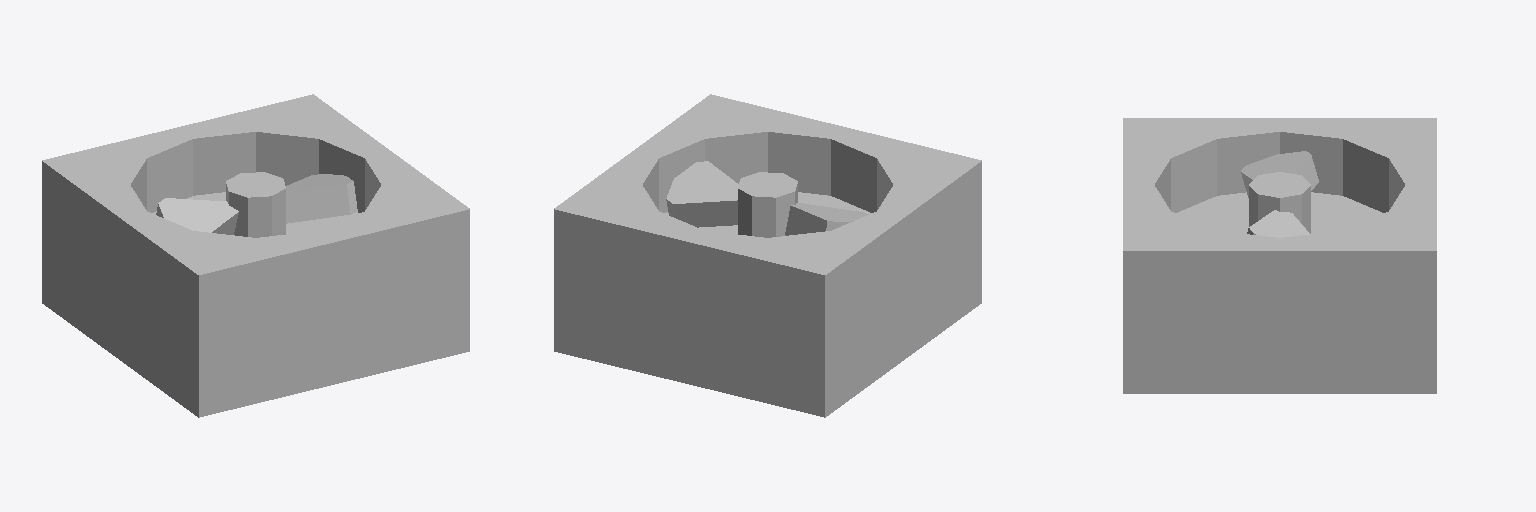
File: fan-two.obj
The picture shows the model from 3 angles: view 1: azimuth 30°, elevation 25°; view 2: azimuth 150°, elevation 25°; view 3: azimuth 270°, elevation 25°; orthographic projection.
Visible parts, largest first — view 1: fan-two, fan; view 2: fan-two, fan; view 3: fan-two, fan.
Boxes of the visible parts, x1,y1,x2,y2 form: fan-two: [42, 94, 469, 417]; fan: [156, 172, 357, 237]; fan-two: [554, 94, 981, 417]; fan: [666, 161, 868, 237]; fan-two: [1123, 118, 1436, 393]; fan: [1241, 151, 1318, 237].
Bounding box in the file's own units: 1 × 0.5 × 1.